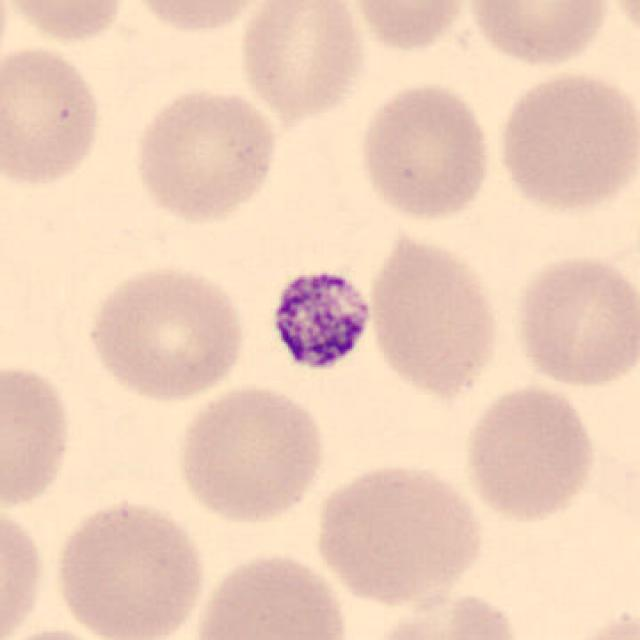Platelets: (261, 264, 375, 378)
RBC: (309, 458, 487, 608), (363, 227, 503, 402), (82, 261, 250, 405), (50, 493, 208, 640), (172, 381, 329, 527), (128, 83, 283, 226), (492, 65, 636, 217), (354, 77, 496, 224), (461, 379, 599, 525), (507, 249, 638, 393), (234, 0, 369, 123), (0, 41, 107, 192), (190, 546, 352, 640), (0, 358, 76, 513), (464, 0, 615, 71), (362, 583, 526, 640), (0, 497, 50, 640), (341, 0, 475, 53), (0, 0, 132, 46), (121, 0, 281, 37), (560, 604, 640, 640), (0, 624, 130, 640), (601, 0, 640, 49)
